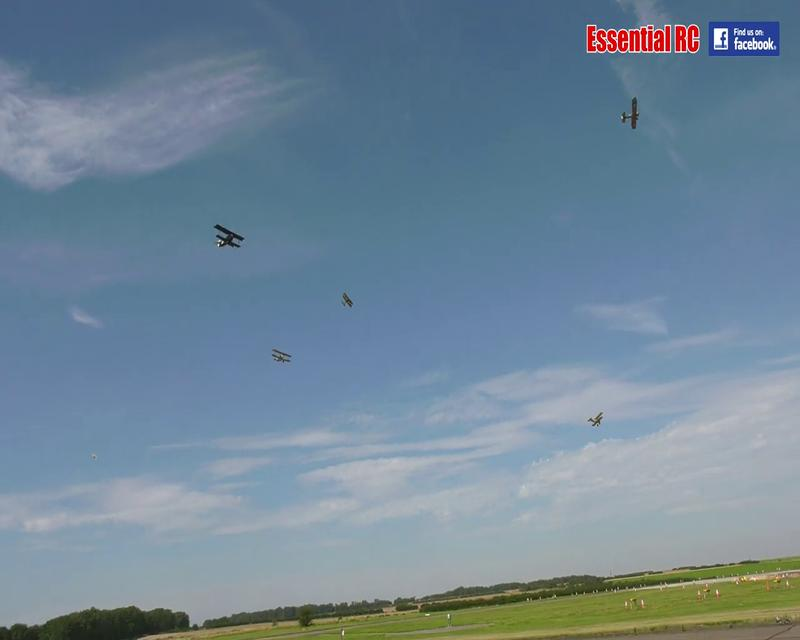UAV: (213, 224, 245, 248), (620, 98, 640, 130), (271, 348, 292, 364), (587, 412, 603, 428), (340, 292, 354, 307)
